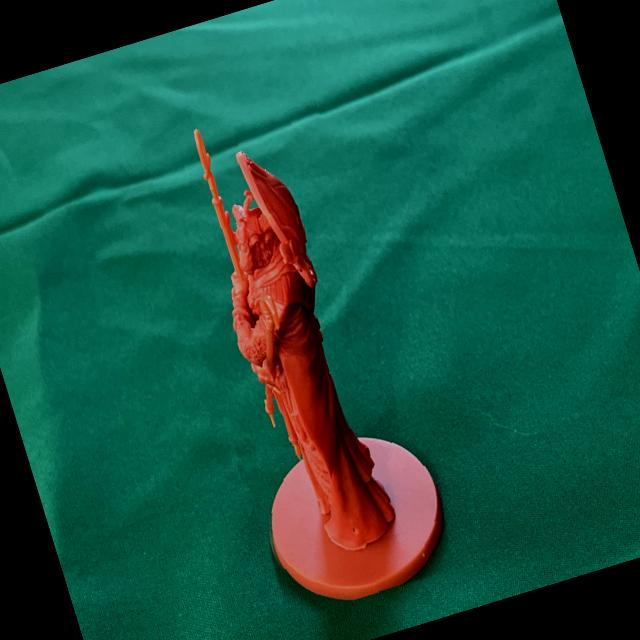amon: (141, 84, 464, 621)
